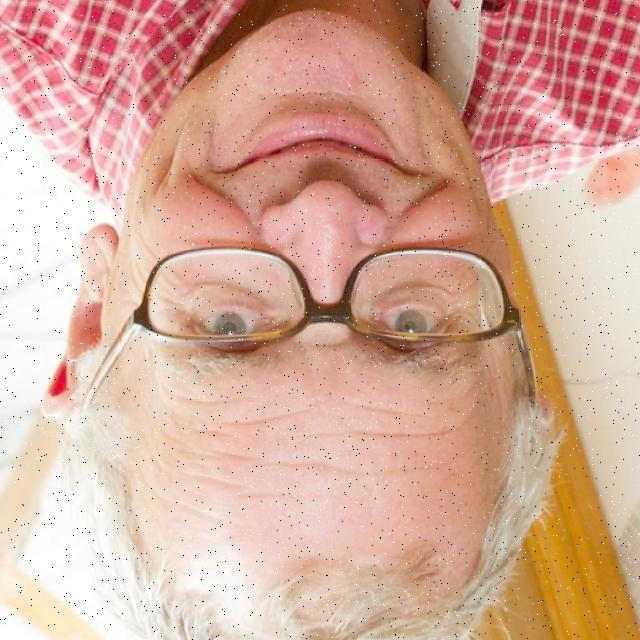puffy_eyes: (186, 282, 273, 310), (373, 290, 454, 309)
